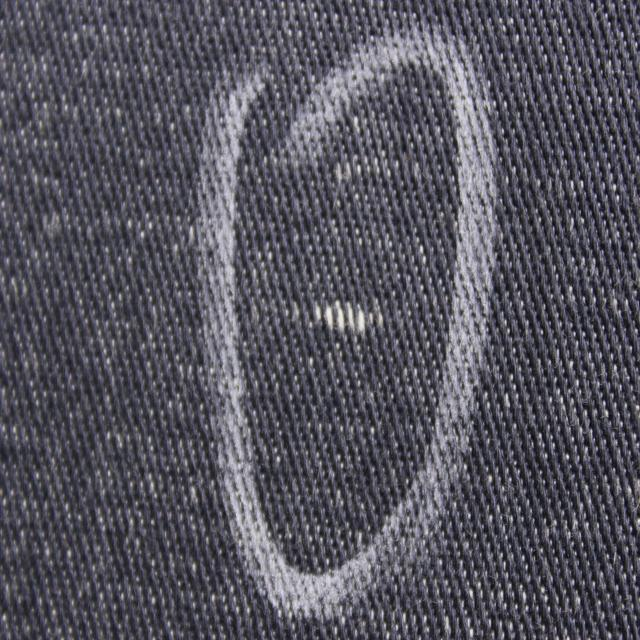pulled_or_thick_thread: (297, 296, 395, 328)
